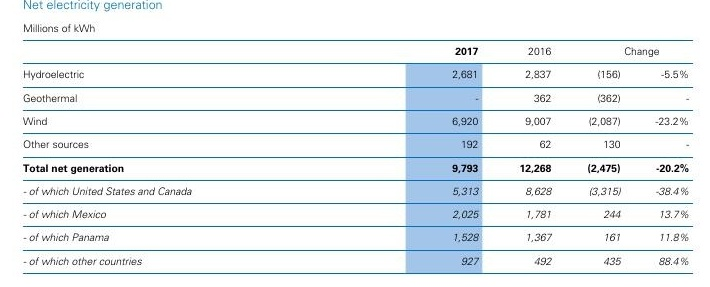table: (0, 0, 710, 287)
